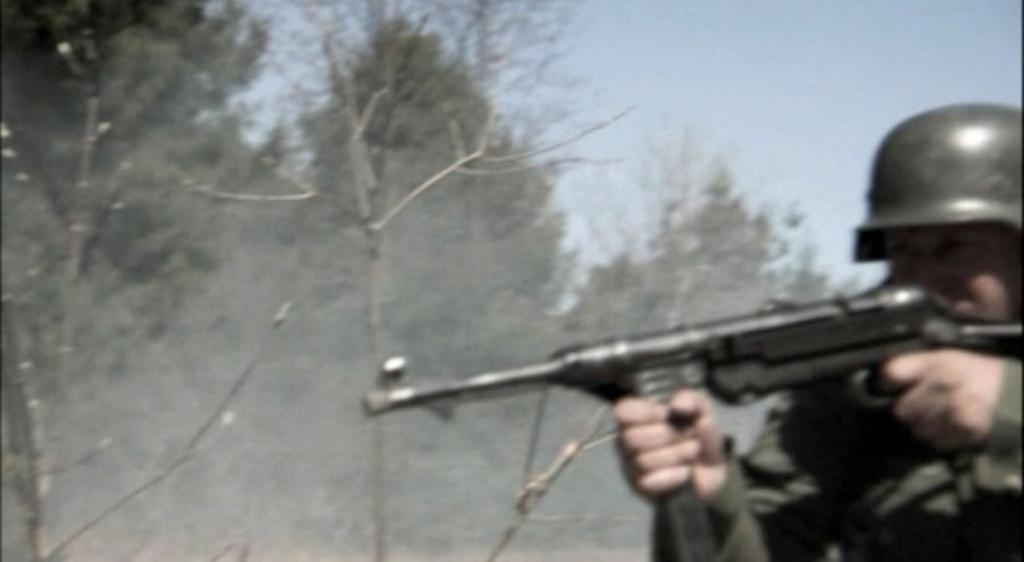face: (871, 201, 999, 377)
